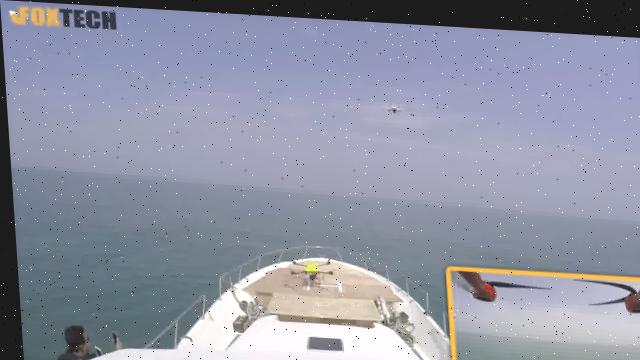drone: (273, 242, 338, 289), (372, 94, 407, 112)
